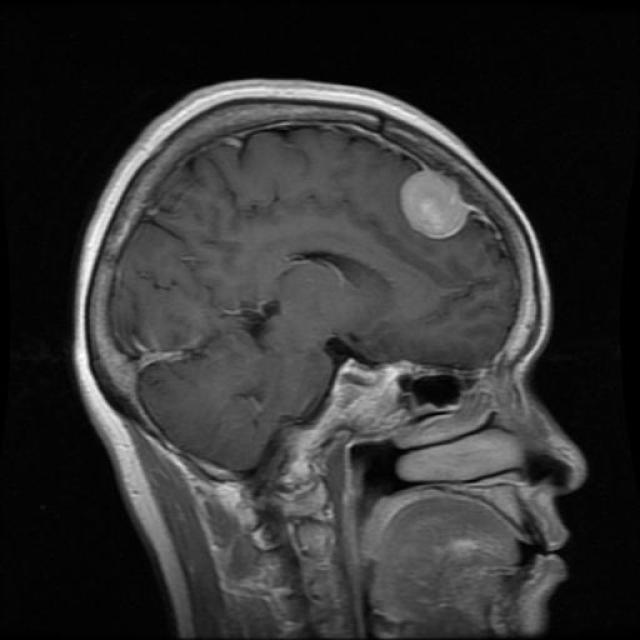meningioma: (397, 153, 469, 250)
